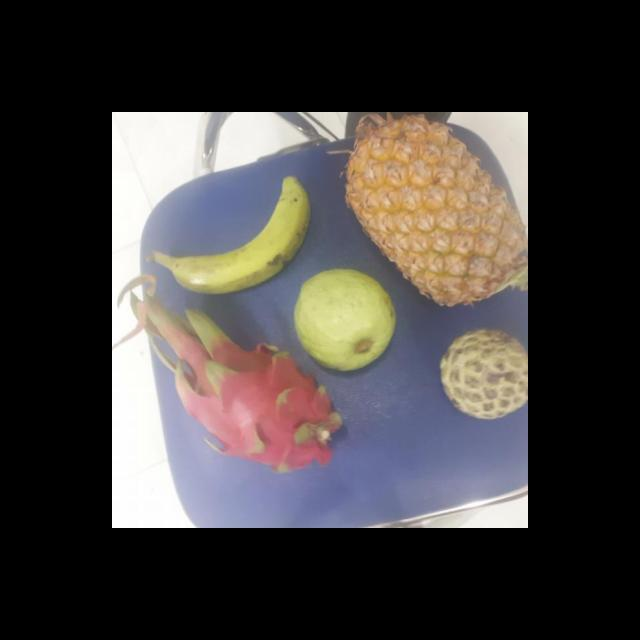Sakya fruit: (433, 328, 528, 419)
guava: (289, 272, 398, 374)
pineapple: (343, 116, 528, 298)
pitaya: (176, 342, 345, 474)
